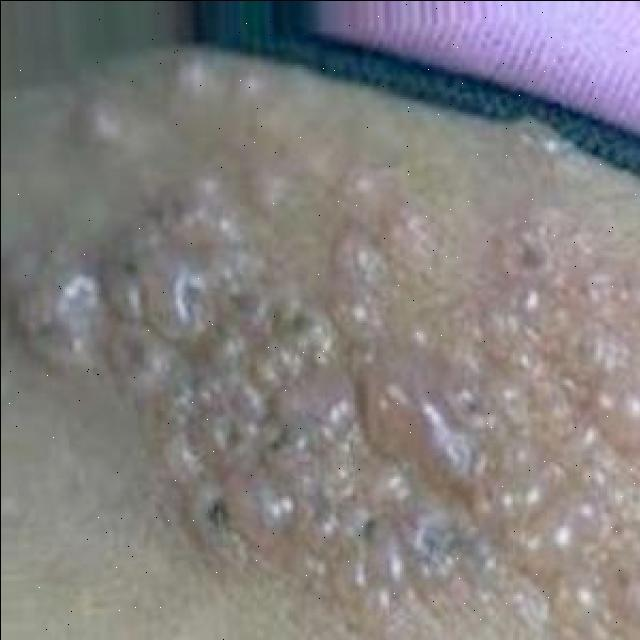Shingles: (12, 68, 640, 624)
